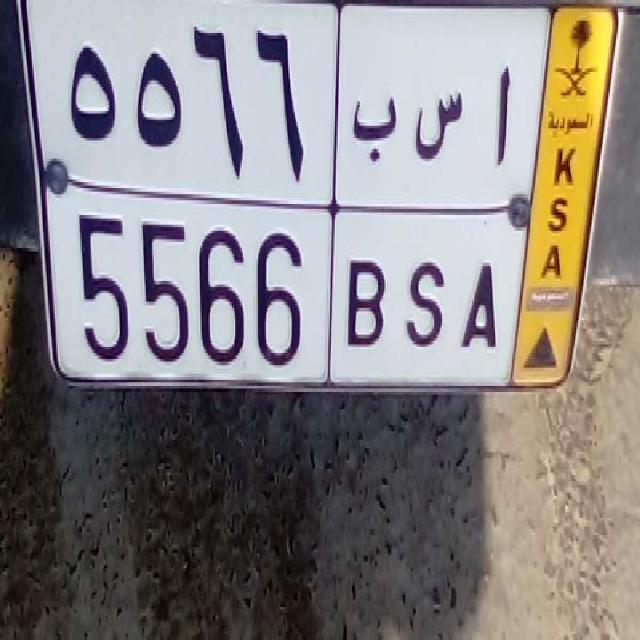license_plate: (52, 177, 512, 409)
